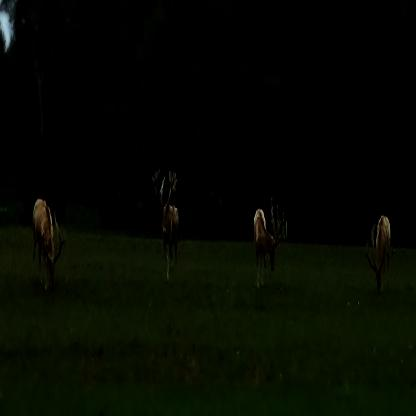Deer: (32, 195, 66, 296), (151, 169, 180, 283), (254, 198, 286, 288), (366, 214, 392, 300)
